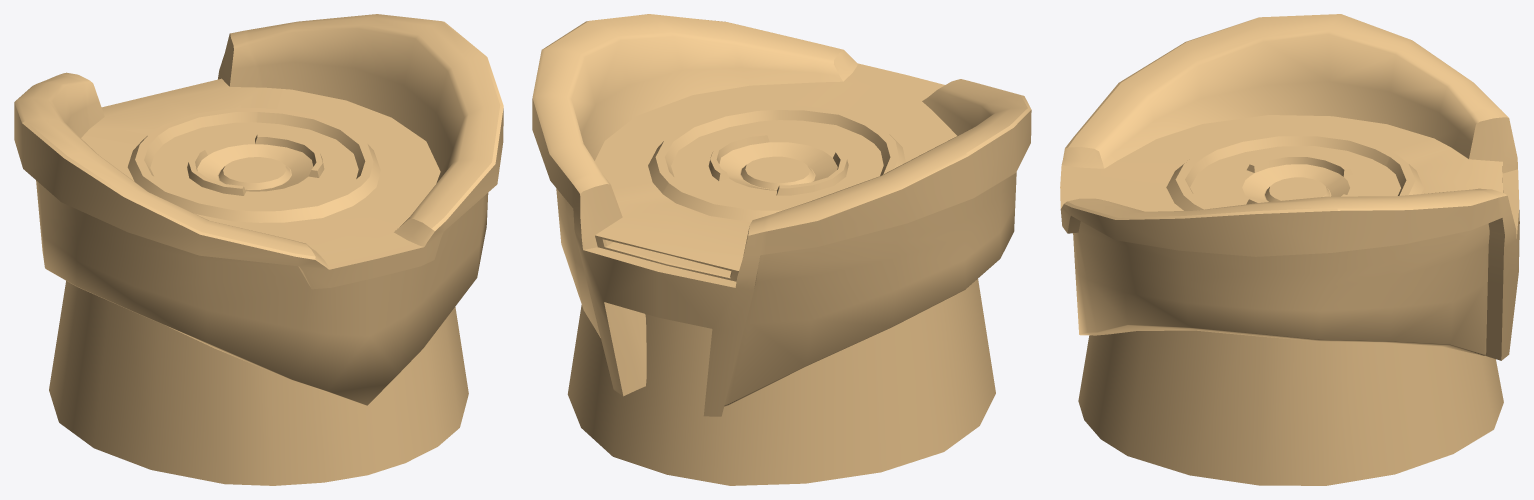
Rendered from bifrost base.fbx.
3 renders of one model, left to right at view 1: azimuth 30°, elevation 25°; view 2: azimuth 150°, elevation 25°; view 3: azimuth 270°, elevation 25°, orthographic. The views are drawn at different scales.
Parts seen in each view (by area): view 1: Bifrost base; view 2: Bifrost base; view 3: Bifrost base.
Part boxes in pixels (<box>): Bifrost base: <box>14,14,503,485</box>; Bifrost base: <box>532,14,1031,485</box>; Bifrost base: <box>1060,14,1519,485</box>.
Bounding box in the file's own units: 66.82 × 45.64 × 65.13.
